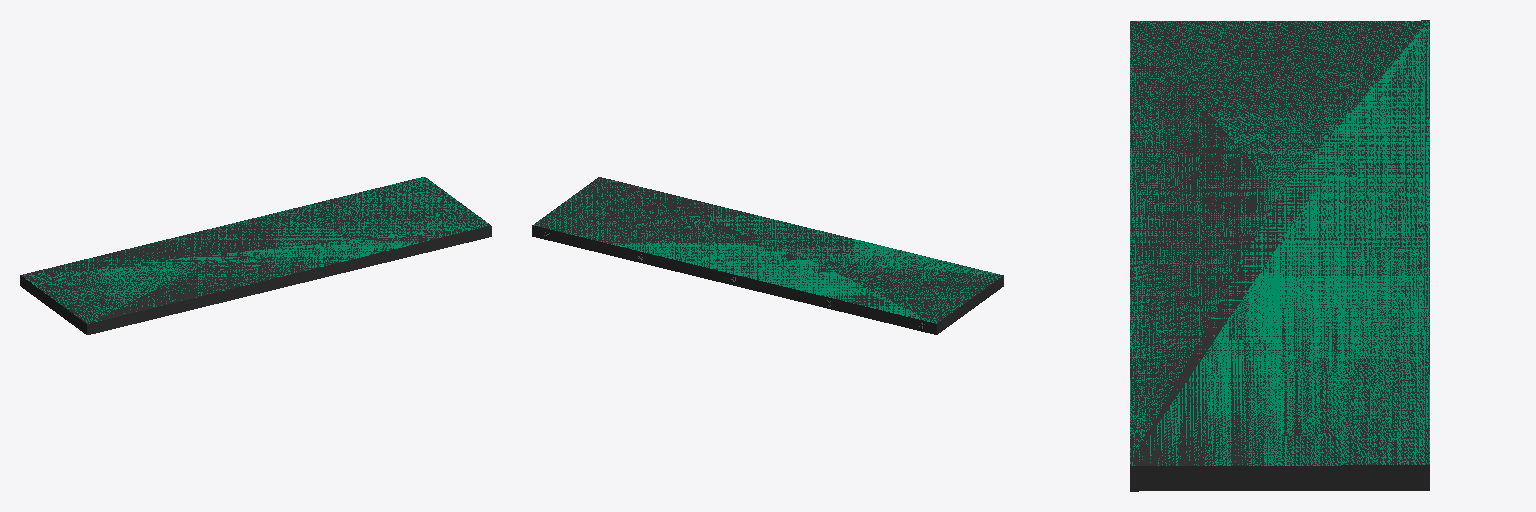
robot.urdf — right-pull-door:
<?xml version="1.0" ?>
<robot name="right-pull-door">
	<link name="base"/>
	<link name="link_0">
		<visual name="out-frame">
			<origin xyz="0 0 0"/>
			<geometry>
				<mesh filename="texture_dae/frame.dae" scale="0.6 0.6 0.6"/>
			</geometry>
		</visual>
		<collision>
			<origin xyz="0 0 0"/>
			<geometry>
				<mesh filename="texture_dae/frame.dae" scale="0.6 0.6 0.6"/>
			</geometry>
		</collision>
	</link>
	<joint name="joint_0" type="fixed">
		<origin rpy="1.570796326794897 0 -1.570796326794897" xyz="0 0 0"/>
		<child link="link_0"/>
		<parent link="base"/>
	</joint>
	<link name="link_1">
		<visual name="surf-board">
			<origin xyz="0.14249986292997802 0 0"/>
			<geometry>
				<mesh filename="texture_dae/board.dae" scale="0.6 0.6 0.6"/>
			</geometry>
		</visual>
		<collision>
			<origin xyz="0.14249986292997802 0 0"/>
			<geometry>
				<mesh filename="texture_dae/board.dae" scale="0.6 0.6 0.6"/>
			</geometry>
		</collision>
	</link>
	<joint name="joint_1" type="revolute">
		<origin xyz="-0.14249986292997802 0 0"/>
		<axis xyz="0 -1 0"/>
		<child link="link_1"/>
		<parent link="link_0"/>
		<limit lower="0" upper="1.5079644737231006"/>
	</joint>
	<link name="link_2">
		<visual name="handle">
			<origin xyz="0 0 0"/>
			<geometry>
				<mesh filename="texture_dae/9961222.dae" scale="0.5 0.5 0.5"/>
			</geometry>
		</visual>
		<collision>
			<origin xyz="0 0 0"/>
			<geometry>
				<mesh filename="texture_dae/9961222.dae" scale="0.5 0.5 0.5"/>
			</geometry>
		</collision>
	</link>
	<joint name="joint_2" type="revolute">
		<origin xyz="0.14249986292997802 0 0.023468612441443645"/>
		<child link="link_2"/>
		<parent link="link_1"/>
		<axis xyz="0 0 1"/>
		<limit lower="0" upper="1.5079644737231006"/>
	</joint>
</robot>

--- Render facts (derived) ---
The picture shows the robot from 3 angles, left to right: view 1: azimuth 30°, elevation 25°; view 2: azimuth 150°, elevation 25°; view 3: azimuth 270°, elevation 25°; orthographic projection.
Model right-pull-door with 4 links and 3 joints (2 revolute, 1 fixed), rooted at base, posed all joints at 0.
Links seen in each view (by area): view 1: link_1; view 2: link_1; view 3: link_1.
Link boxes in pixels (x1,y1,x2,y2): link_1: [20, 177, 491, 334]; link_1: [532, 177, 1003, 334]; link_1: [1130, 20, 1429, 491].
Bounding box of the posed robot: 0.998 × 0.2852 × 0.0675 m (x, y, z).
2 mesh visuals loaded from 3 distinct referenced files (2 Collada DAE); not drawn: 1 (reference not matched to a file when rendering).
